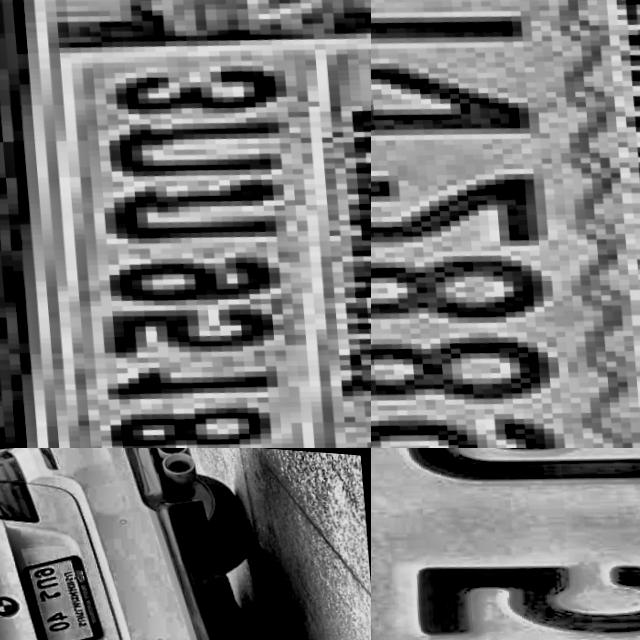license-plate: (0, 0, 371, 448), (371, 0, 640, 448), (371, 448, 640, 640), (11, 543, 107, 640)
